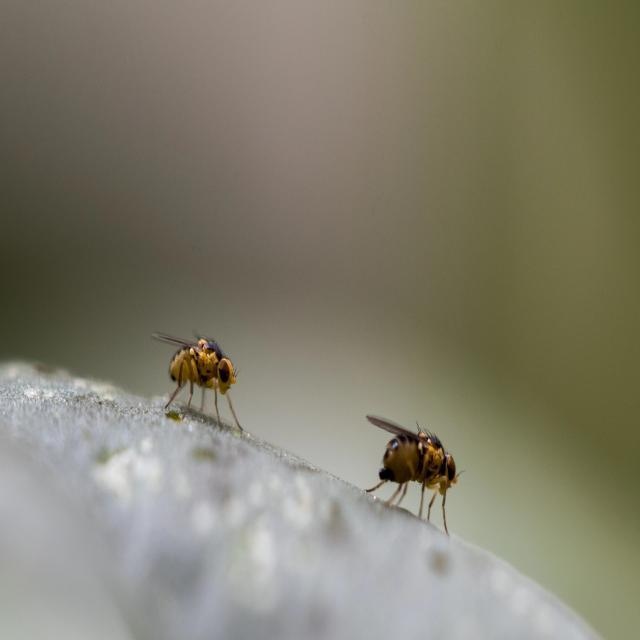Serpentine leafminer: (362, 413, 462, 540), (147, 327, 246, 449)
